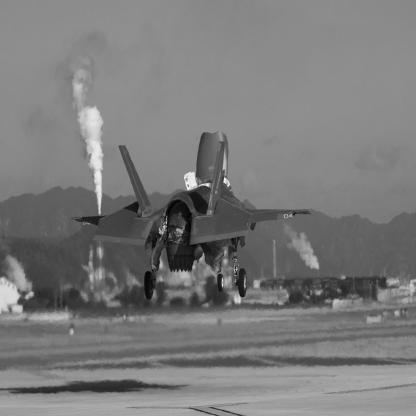F35: (71, 132, 313, 301)
